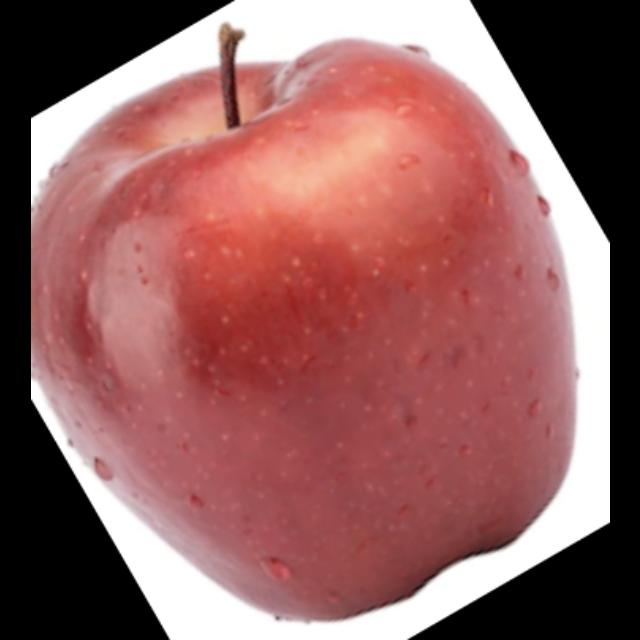Apel Segar: (34, 16, 596, 634)
